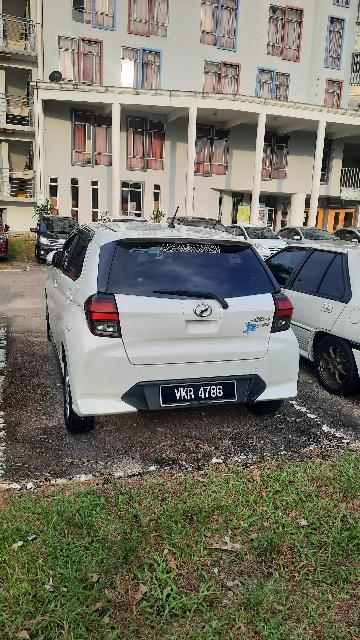License_Plate: (155, 377, 243, 408)
car: (37, 213, 312, 425), (258, 236, 360, 404)
